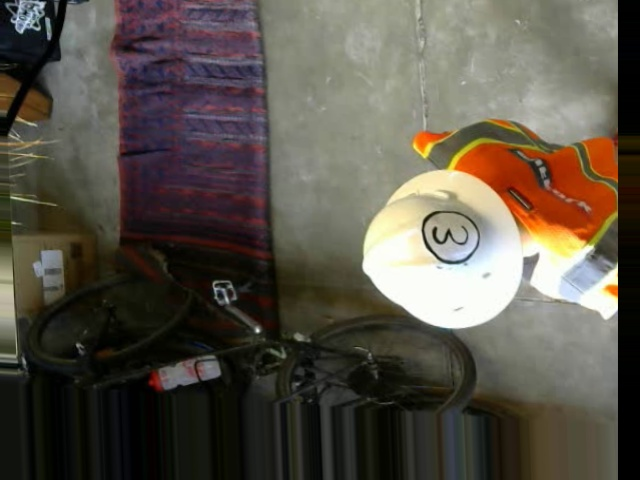three: (419, 208, 478, 264)
